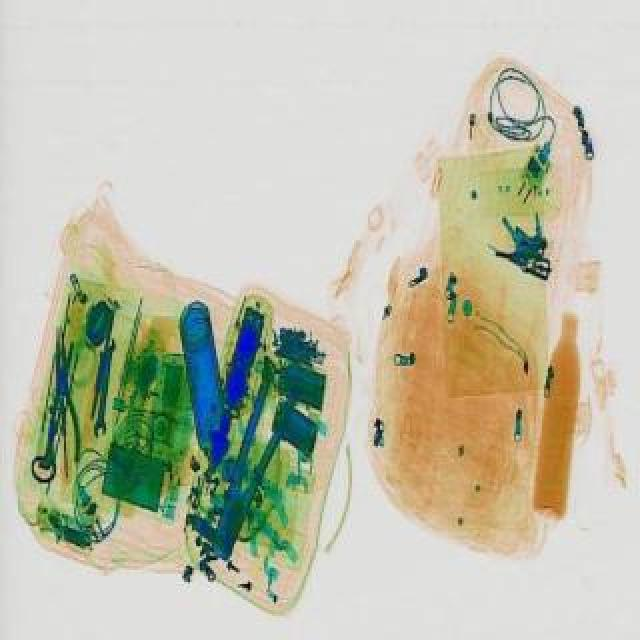scissors: (94, 334, 114, 434)
wrench: (200, 370, 302, 562), (48, 324, 80, 458)
